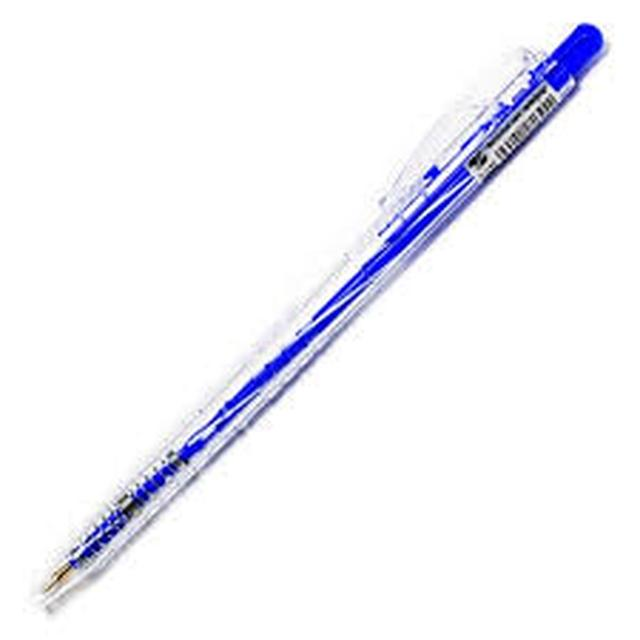pen: (27, 28, 614, 617)
